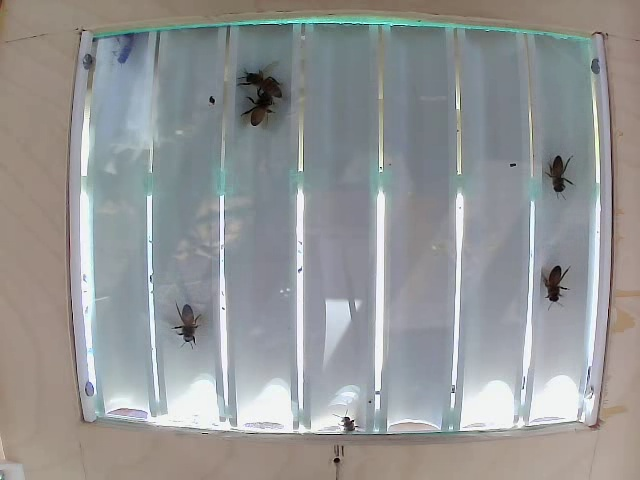bee: (167, 283, 206, 352), (537, 147, 579, 200), (542, 255, 584, 307), (244, 87, 274, 131)
